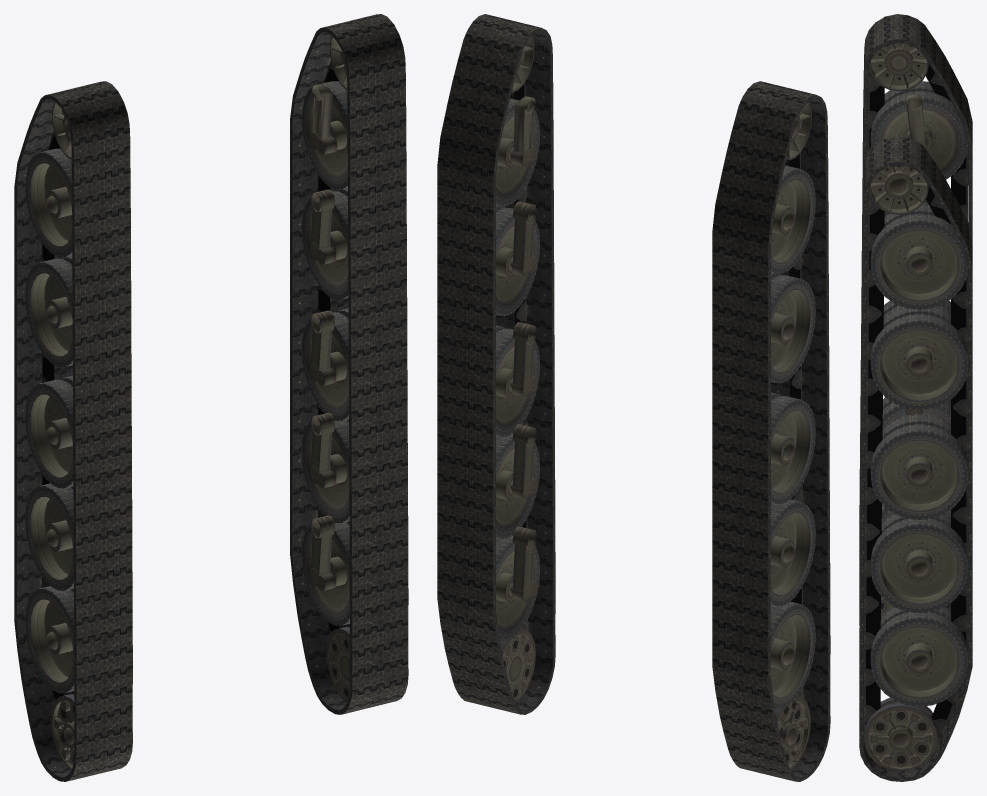
The model's file is Chassis.glb.
The picture shows the model from 3 angles, left to right: view 1: azimuth 30°, elevation 25°; view 2: azimuth 150°, elevation 25°; view 3: azimuth 270°, elevation 25°; orthographic projection. The views are drawn at different scales.
Parts seen in each view (by area): view 1: set_0_group_0, set_1_group_0, set_2_group_0, set_3_group_0; view 2: set_1_group_0, set_0_group_0, set_3_group_0, set_2_group_0; view 3: set_3_group_0, set_0_group_0, set_2_group_0, set_1_group_0.
Part boxes in pixels (x1,y1,x2,y2): set_0_group_0: (290, 14, 408, 714); set_1_group_0: (14, 81, 132, 781); set_2_group_0: (25, 102, 74, 769); set_3_group_0: (301, 36, 349, 702); set_1_group_0: (712, 81, 830, 781); set_0_group_0: (437, 14, 555, 714); set_3_group_0: (496, 36, 540, 702); set_2_group_0: (770, 102, 815, 769); set_3_group_0: (864, 165, 968, 770); set_0_group_0: (859, 136, 972, 781); set_2_group_0: (869, 43, 968, 617); set_1_group_0: (859, 14, 972, 625).
Size of the model in its own units: 2.95 by 5.8 by 0.9616.
4 materials, 4 textured.
